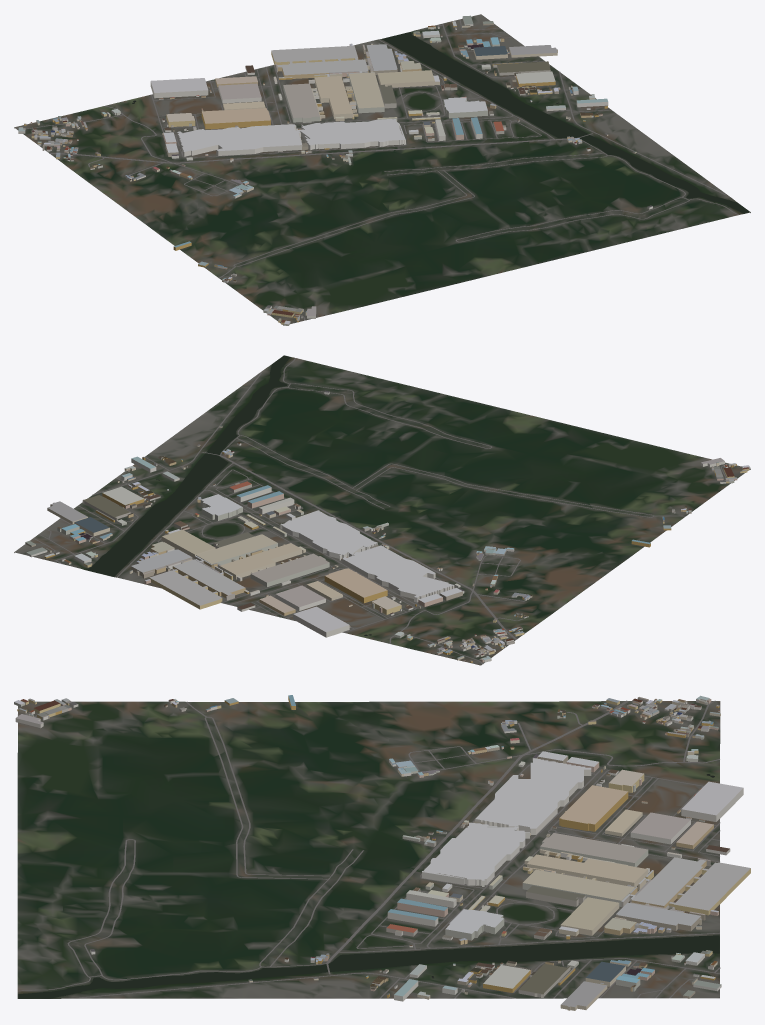
3 renders of one model, top to bottom at view 1: azimuth 30°, elevation 25°; view 2: azimuth 150°, elevation 25°; view 3: azimuth 270°, elevation 25°, orthographic. The views are drawn at different scales.
Parts seen in each view (by area): view 1: ground, buildings, roads, water; view 2: ground, buildings, roads, water; view 3: ground, buildings, roads, water.
Part boxes in pixels (x1,y1,x2,y2): ground: (14,14,750,325); buildings: (18,15,652,325); roads: (15,19,739,320); water: (132,32,749,213); ground: (14,357,750,665); buildings: (25,390,750,662); roads: (33,358,730,664); water: (85,355,371,635); ground: (17,701,720,998); buildings: (14,695,750,1010); roads: (18,700,720,998); water: (18,774,719,998).
Bounding box in the file's own units: 1471 × 20.23 × 1470.
